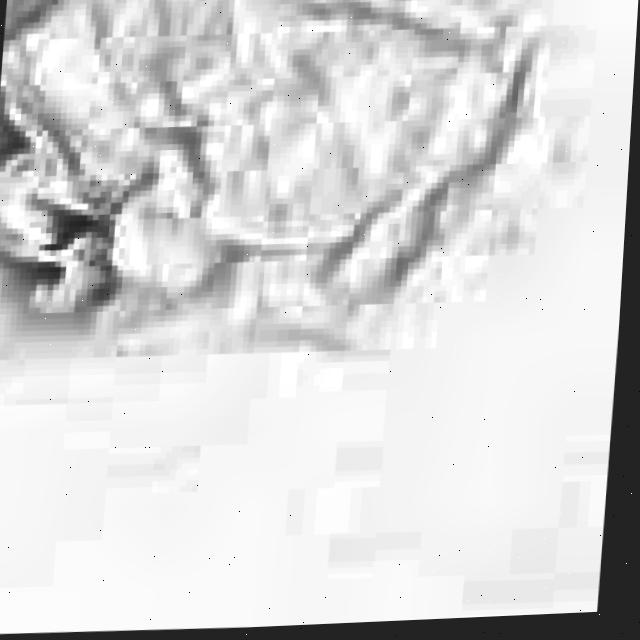paper: (0, 0, 577, 381)
